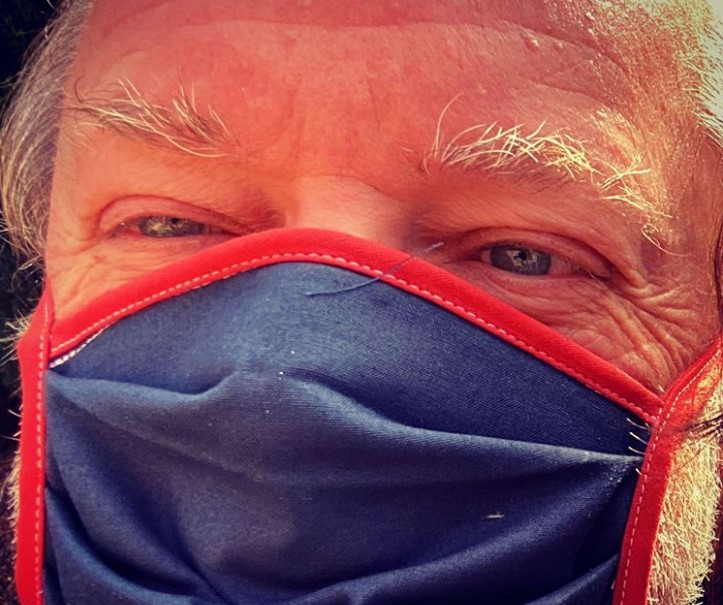face_with_mask: (3, 3, 720, 604)
